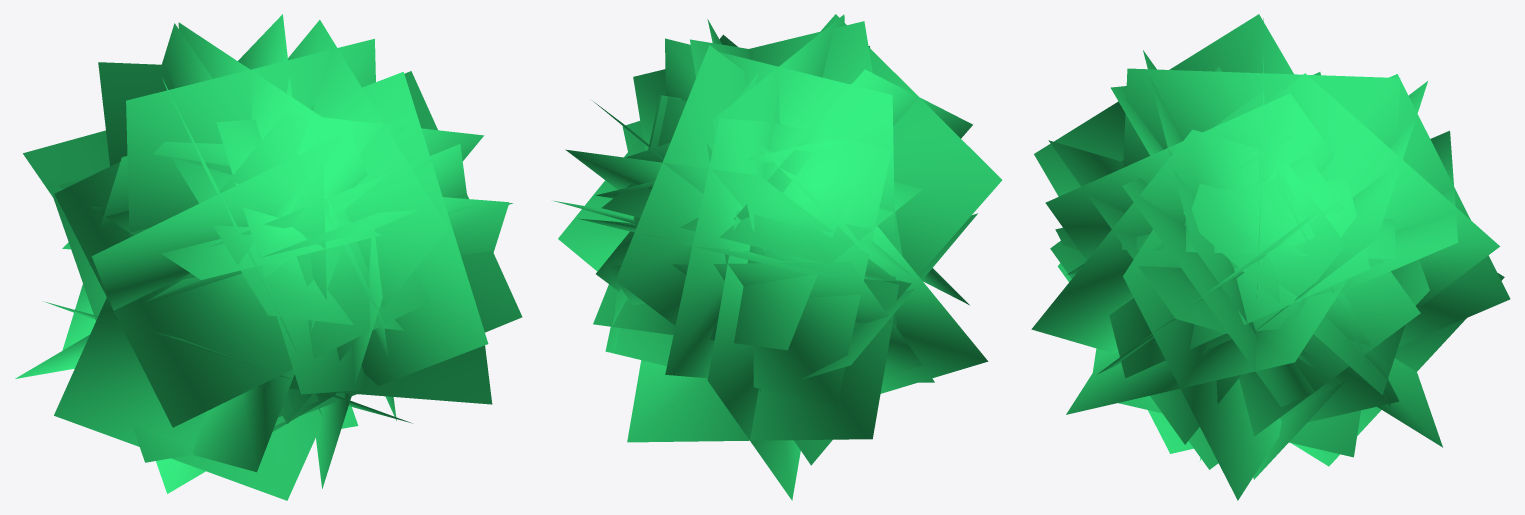
Rendered from FoliageBush01.fbx.
The picture shows the model from 3 angles, left to right: view 1: azimuth 30°, elevation 25°; view 2: azimuth 150°, elevation 25°; view 3: azimuth 270°, elevation 25°; orthographic projection. The views are drawn at different scales.
Parts seen in each view (by area): view 1: FoliageBush01_LOD0; view 2: FoliageBush01_LOD0; view 3: FoliageBush01_LOD0.
Boxes of the visible parts, x1=… form: FoliageBush01_LOD0: x1=15, y1=14, x2=522, y2=500; FoliageBush01_LOD0: x1=553, y1=14, x2=1002, y2=500; FoliageBush01_LOD0: x1=1031, y1=14, x2=1510, y2=500.
Bounding box in the file's own units: 432 × 431 × 424.
